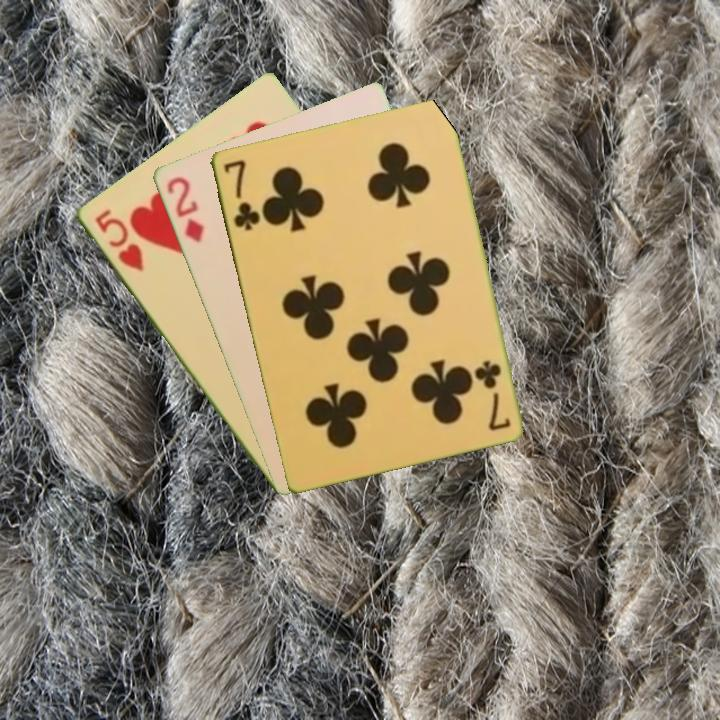2d: (162, 172, 207, 246)
5h: (90, 205, 146, 275)
7c: (219, 156, 262, 234), (473, 356, 513, 433)
